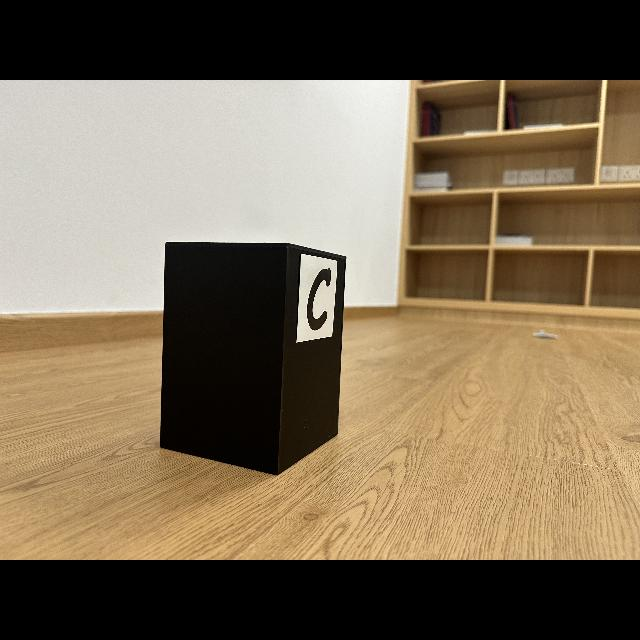C: (306, 269, 331, 330)
